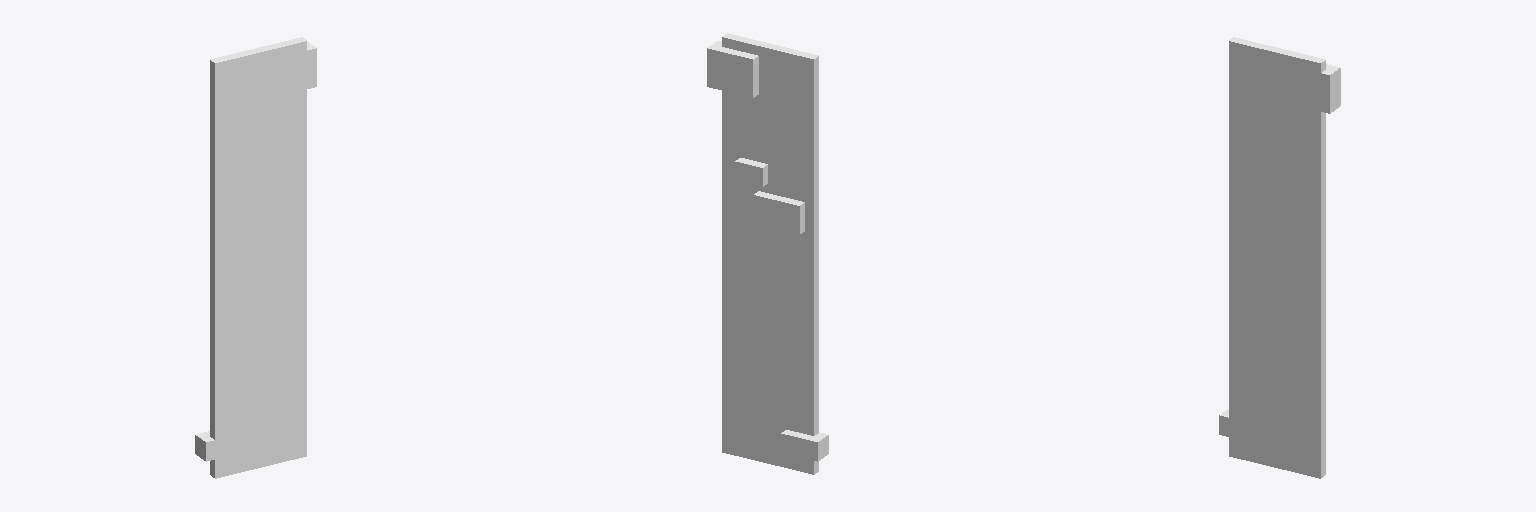
The model's file is ExtraProp-5-Wall_4.obj.
3 renders of one model, left to right at view 1: azimuth 30°, elevation 25°; view 2: azimuth 150°, elevation 25°; view 3: azimuth 330°, elevation 25°, orthographic.
Parts seen in each view (by area): view 1: Wall_4; view 2: Wall_4; view 3: Wall_4.
Boxes of the visible parts, x1,y1,x2,y2 form: Wall_4: [195, 37, 316, 478]; Wall_4: [707, 33, 828, 474]; Wall_4: [1219, 37, 1340, 478].
Size of the model in its own units: 1.2 by 4.3 by 0.2.